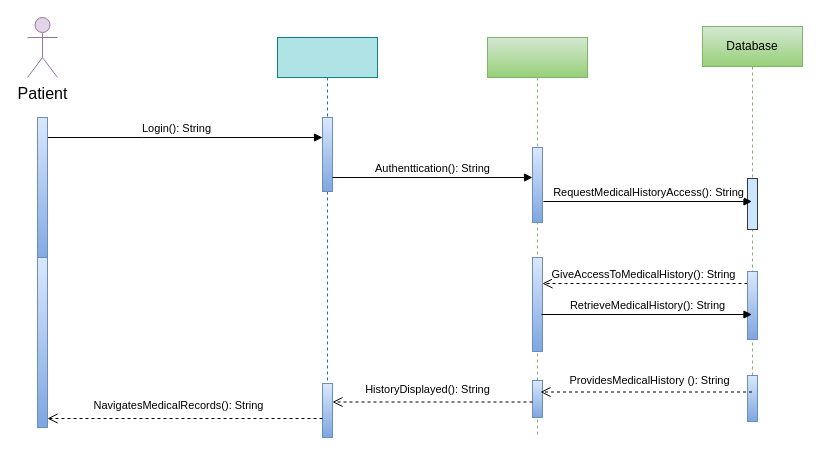
This 820x455 diagram has some shape labels left out. Each missing label, with the box of its shape:
e-Consult App: (486, 36, 588, 438)
UI: (276, 36, 378, 436)
